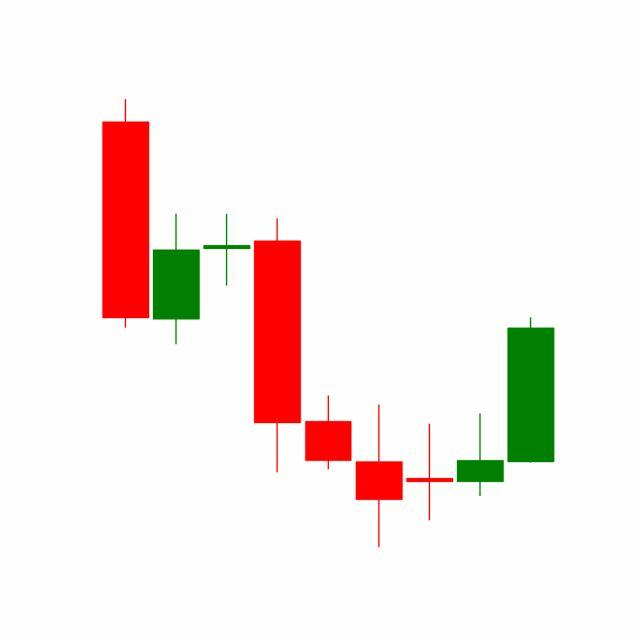Hikkake Pattern: (252, 214, 506, 548)
